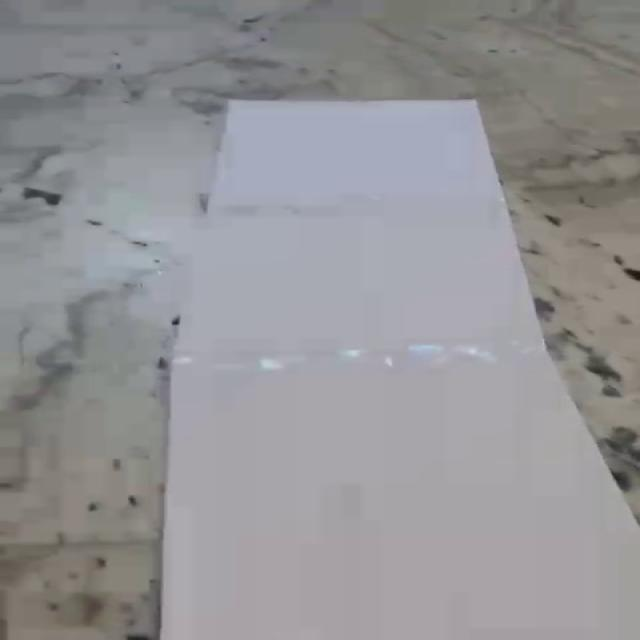road: (159, 99, 640, 640)
